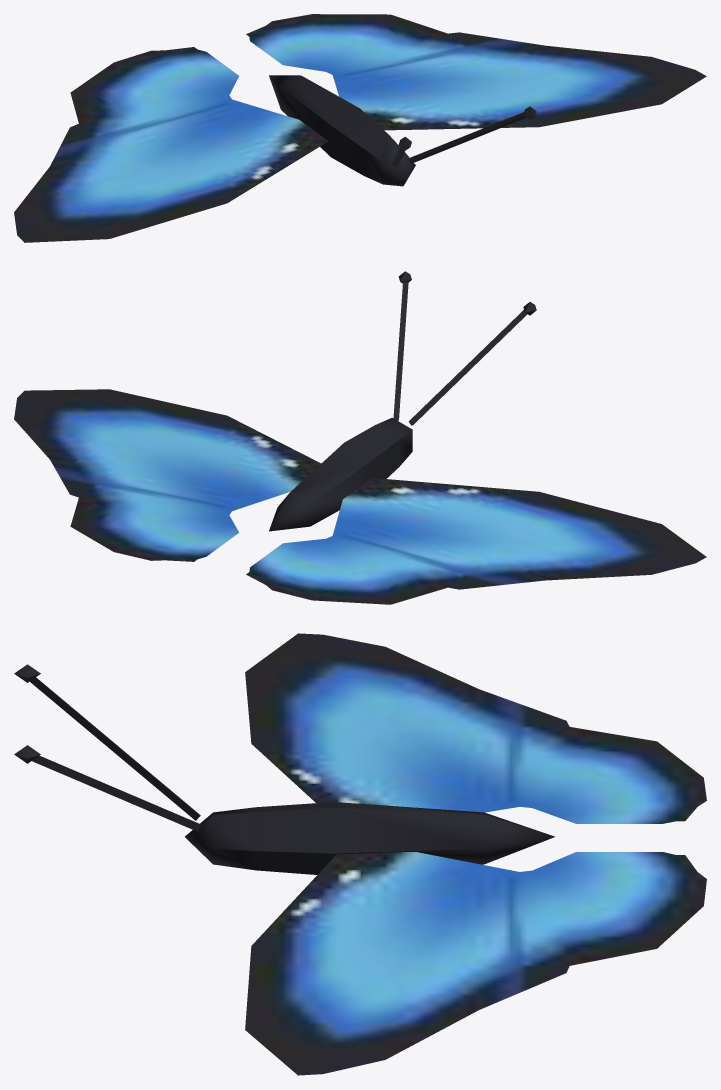
The model's file is emperor-butterfly.glb.
The picture shows the model from 3 angles, top to bottom: view 1: azimuth 30°, elevation 25°; view 2: azimuth 150°, elevation 25°; view 3: azimuth 270°, elevation 25°; orthographic projection. The views are drawn at different scales.
Parts seen in each view (by area): view 1: emperor-butterfly; view 2: emperor-butterfly; view 3: emperor-butterfly.
Part boxes in pixels (bbox=[...]): emperor-butterfly: bbox=[14, 14, 706, 242]; emperor-butterfly: bbox=[14, 271, 706, 604]; emperor-butterfly: bbox=[14, 633, 706, 1075].
Bounding box in the file's own units: 7.12 × 1.25 × 4.72.
Materials: 2 (1 with a texture image).
